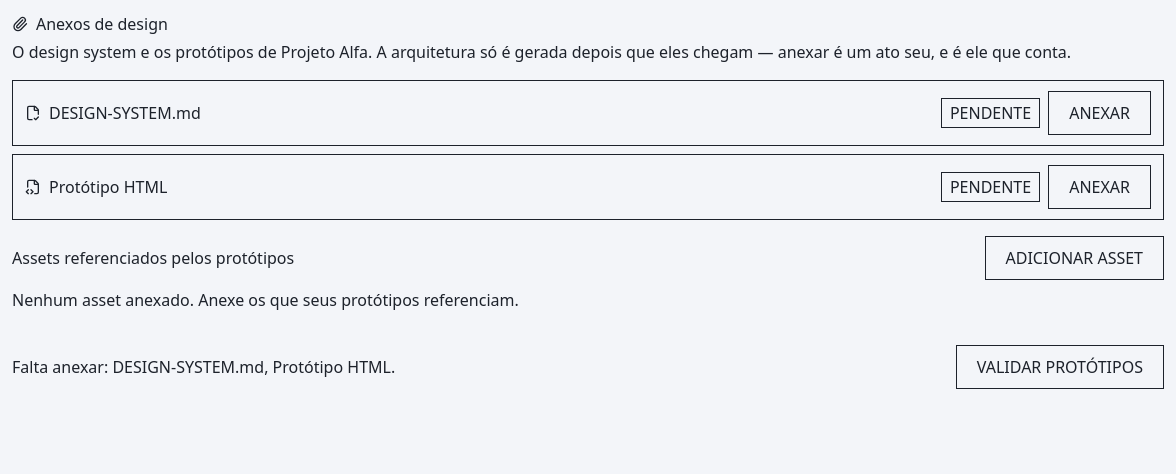
Test: o ato de anexar › não avisa a trilha quando o anexo é recusado
The image size is (1176, 474).
Check: the text "Falta anexar: DESIGN-SYSTEM.md, Protótipo HTML." is shown, box [12, 355, 395, 379]
Step 1. Click the 1st button "Anexar" → point(1100, 113), box [1048, 91, 1151, 135]
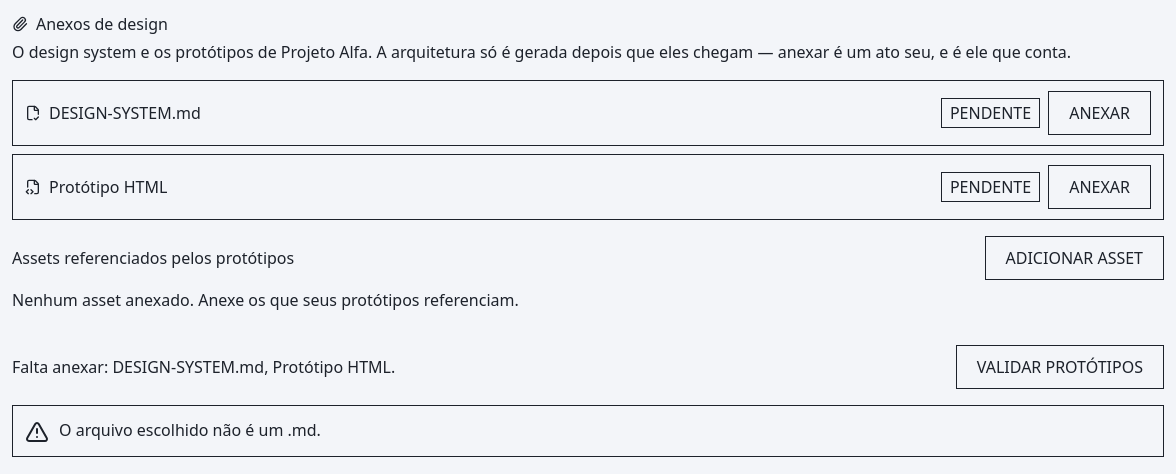
Check: the message "O arquivo escolhido não é um .md." is shown, box [12, 405, 1164, 457]
